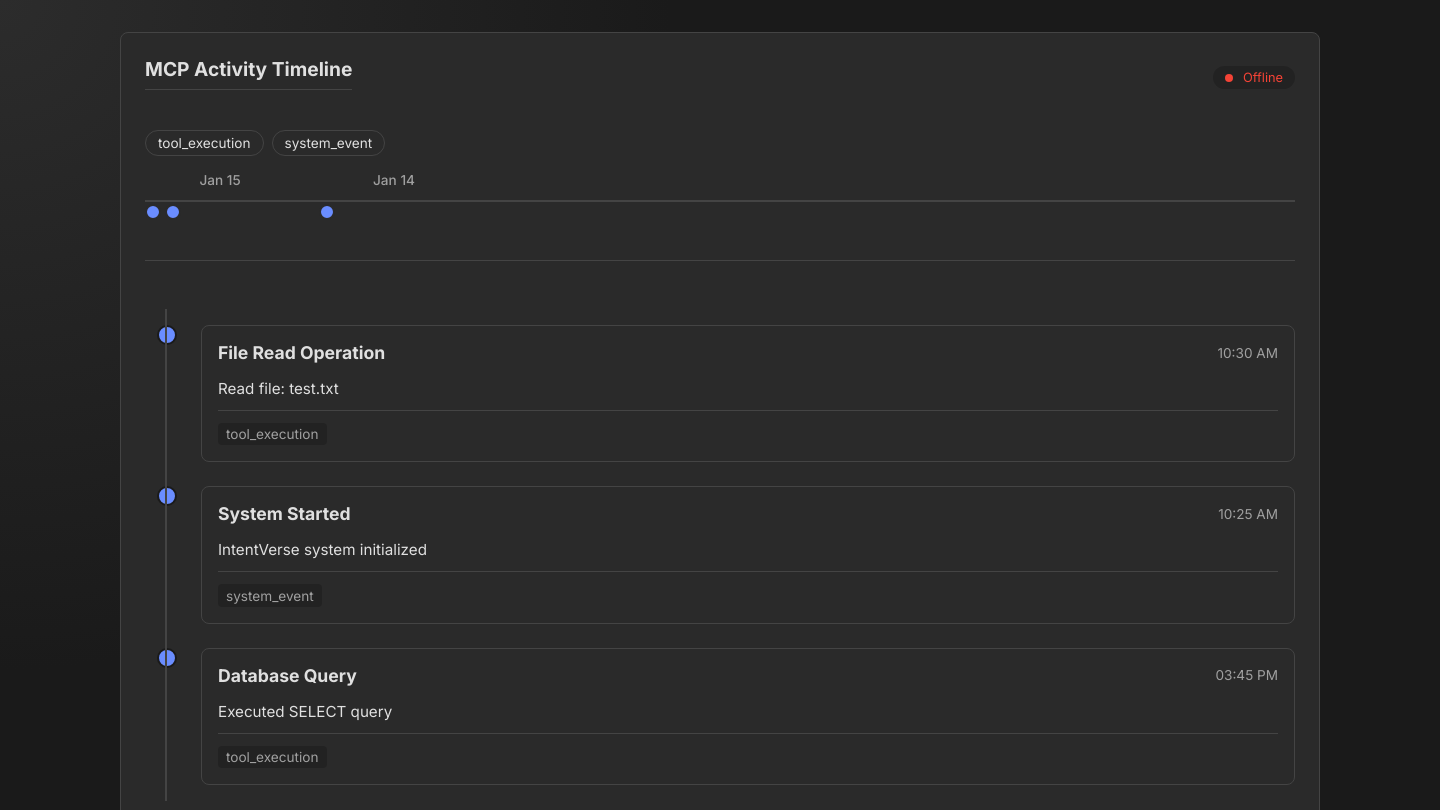
Test: TimelinePage › Empty State › shows no events when filtering by non-existent type
expect the heading "File Read Operation" is shown: met, box [218,342,385,363]
expect the heading "System Started" is shown: met, box [218,503,351,524]
Click the 2nd text with class "event-type": (328, 143) [272,130,385,156]
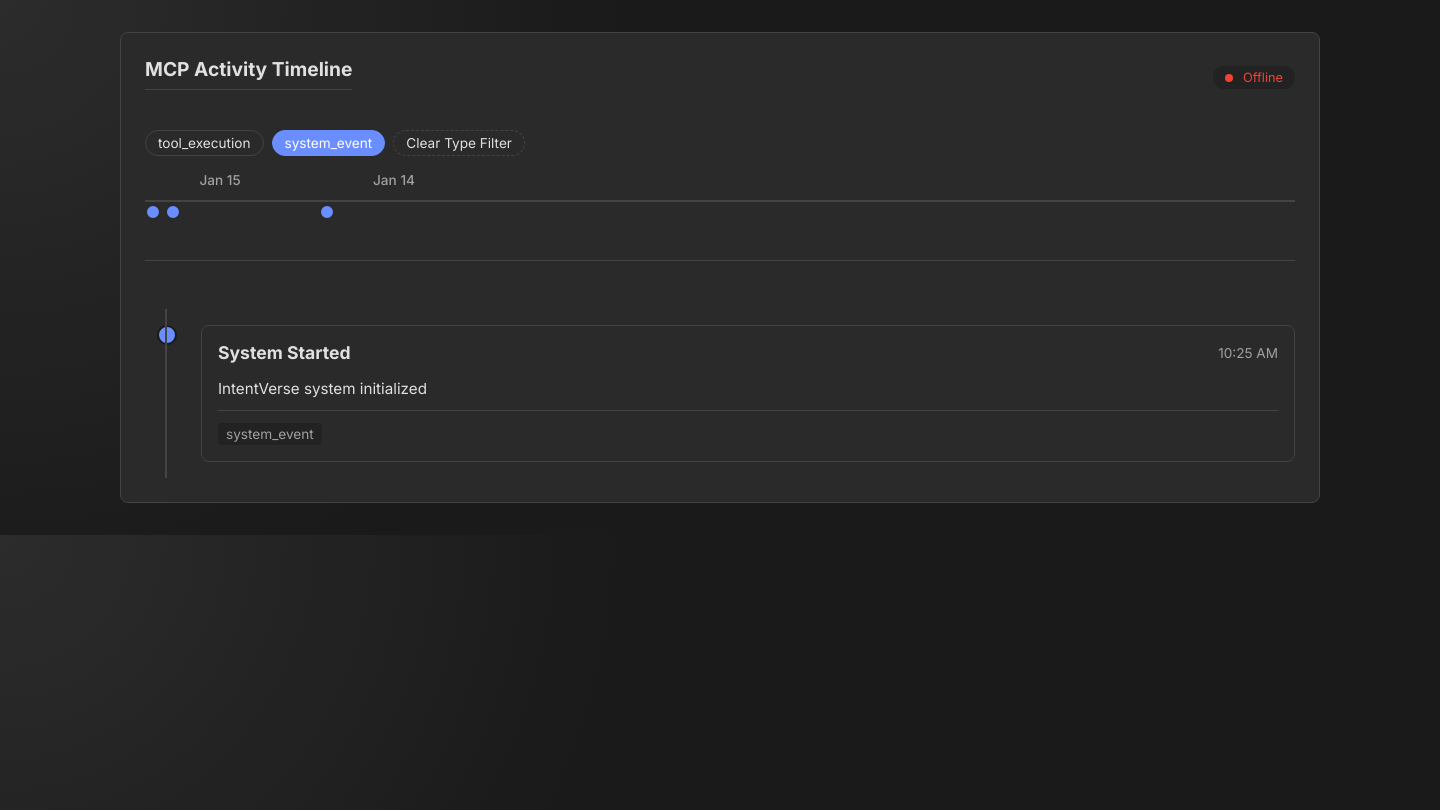
expect the heading "System Started" is shown: met, box [218,342,351,363]
expect the heading "File Read Operation" is gone: met
